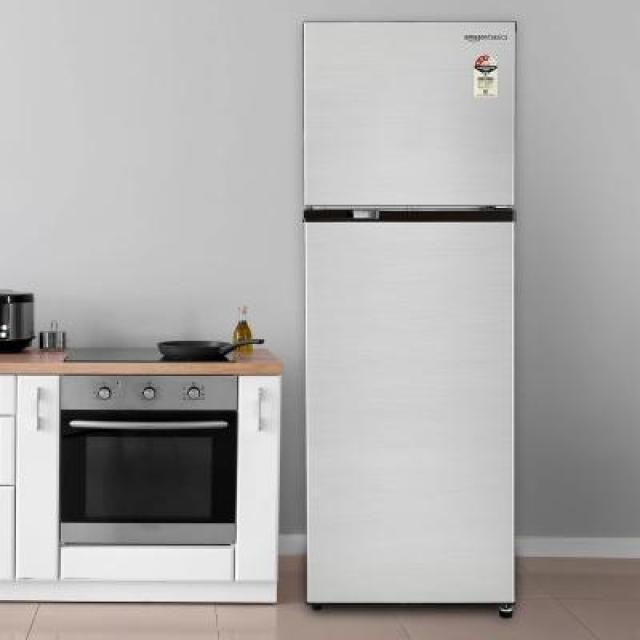refrigerator: (302, 22, 517, 606)
